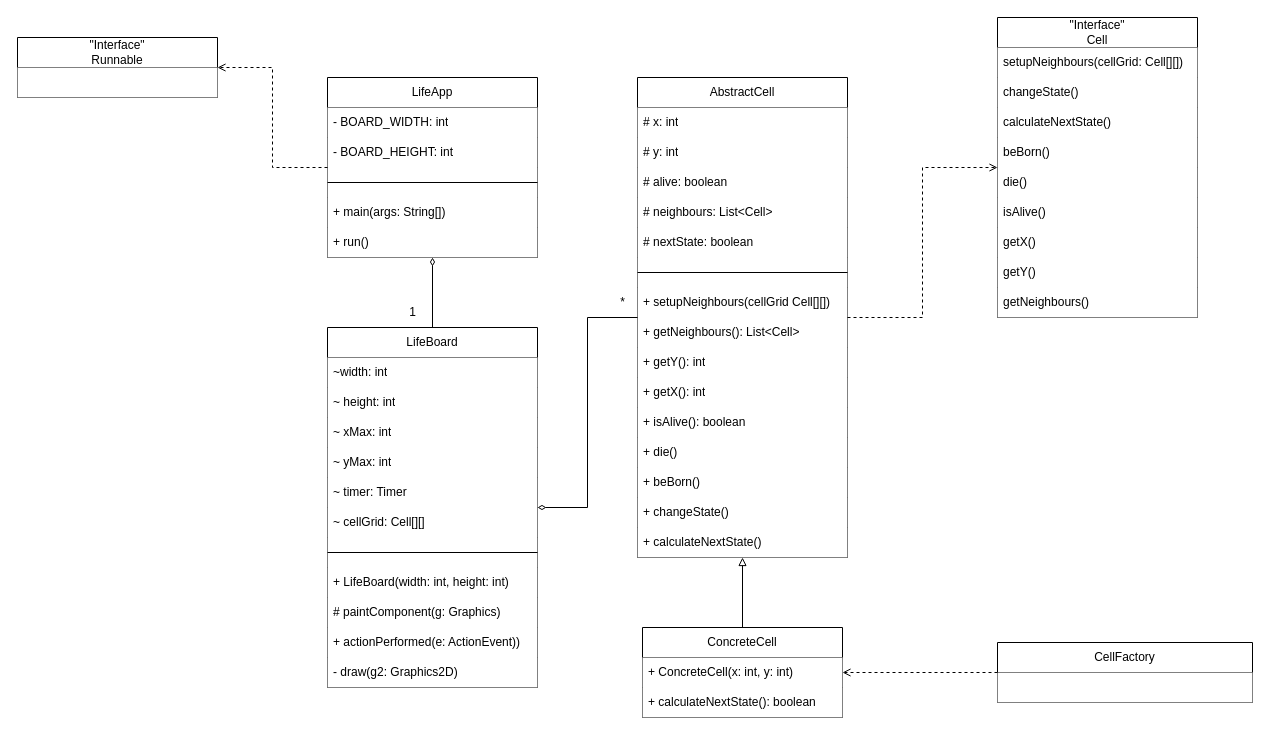
This 1270x735 diagram has some shape labels left out. The centre of each missing label's shape, as x and y in pixels:
"+ cellCreate(x: int, y: int): ConcreteCell" goes at point 1124,687.
"run()" goes at point 117,82.
